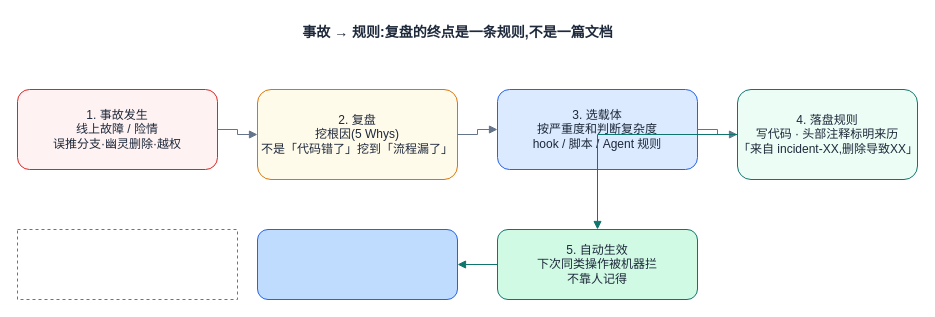
Some shapes in this 935 by 317 pixel diagram are drawn without their labels. Each missing label, with the box of its shape:
6. 规则库 = 事故档案 新人读规则库 = 继承经验 不用重新踩坑: (256, 228, 458, 300)
关键:复盘不落规则 = 没复盘 · 每起事故必须产出至少一条固化规则 规则库定期清理过时规则,精不要多: (16, 228, 238, 300)
